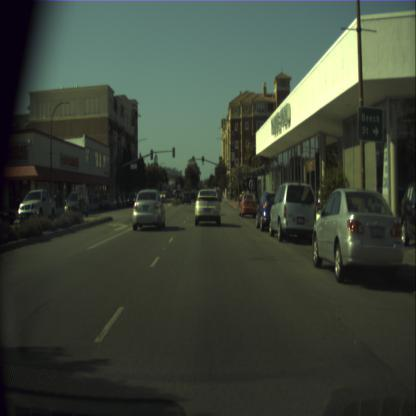Green: (202, 156, 204, 164)
